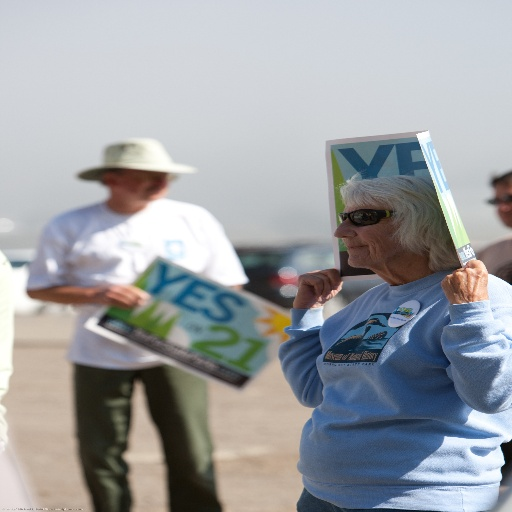hand: (437, 257, 486, 305), (287, 265, 347, 300), (82, 283, 150, 309)
